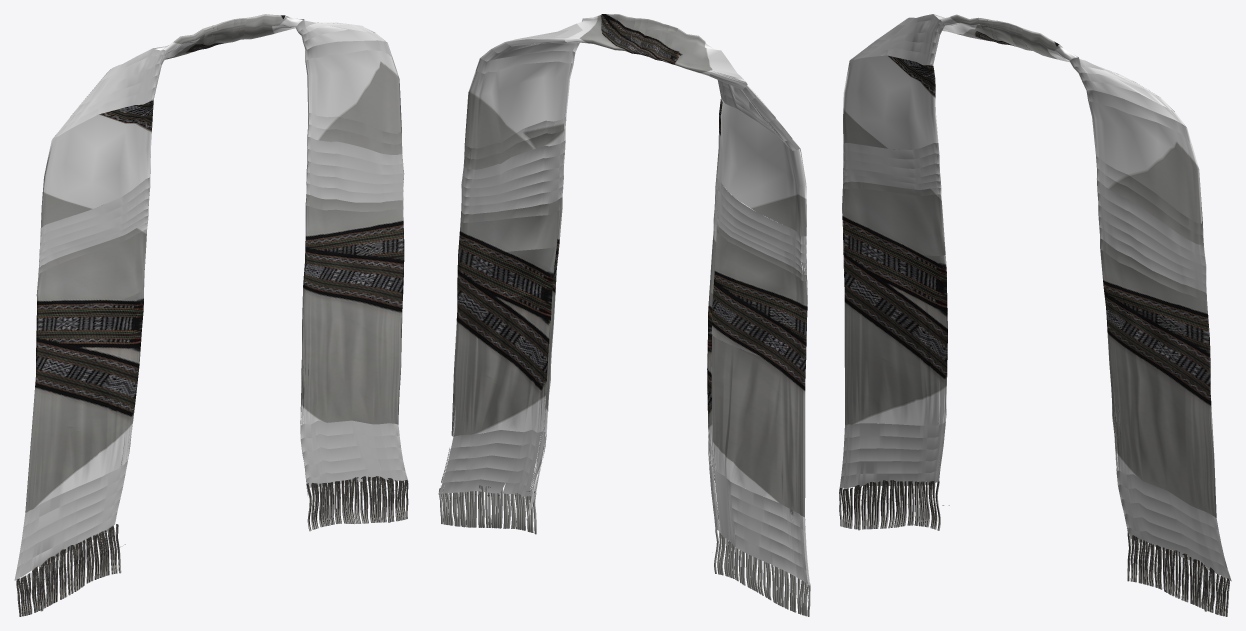
Rendered from sash.glb.
The picture shows the model from 3 angles, left to right: view 1: azimuth 30°, elevation 25°; view 2: azimuth 150°, elevation 25°; view 3: azimuth 330°, elevation 25°; orthographic projection. The views are drawn at different scales.
Parts seen in each view (by area): view 1: plain_sections, Stripe_2, Stripe_1, mid_stripes; view 2: plain_sections, Stripe_1, Stripe_2, mid_stripes; view 3: plain_sections, Stripe_2, Stripe_1, mid_stripes.
Part boxes in pixels (left/top/right/bottom): plain_sections: left=16, top=14, right=408, bottom=616; Stripe_2: left=17, top=22, right=405, bottom=566; Stripe_1: left=14, top=19, right=408, bottom=580; mid_stripes: left=19, top=22, right=404, bottom=553; plain_sections: left=439, top=14, right=810, bottom=616; Stripe_1: left=438, top=21, right=809, bottom=585; Stripe_2: left=441, top=35, right=808, bottom=571; mid_stripes: left=444, top=39, right=807, bottom=557; plain_sections: left=839, top=14, right=1229, bottom=616; Stripe_2: left=841, top=20, right=1227, bottom=568; Stripe_1: left=839, top=14, right=1231, bottom=581; mid_stripes: left=842, top=31, right=1223, bottom=555.
Size of the model in its own units: 1.7 by 2.34 by 0.1999.
1 material, 1 textured.
